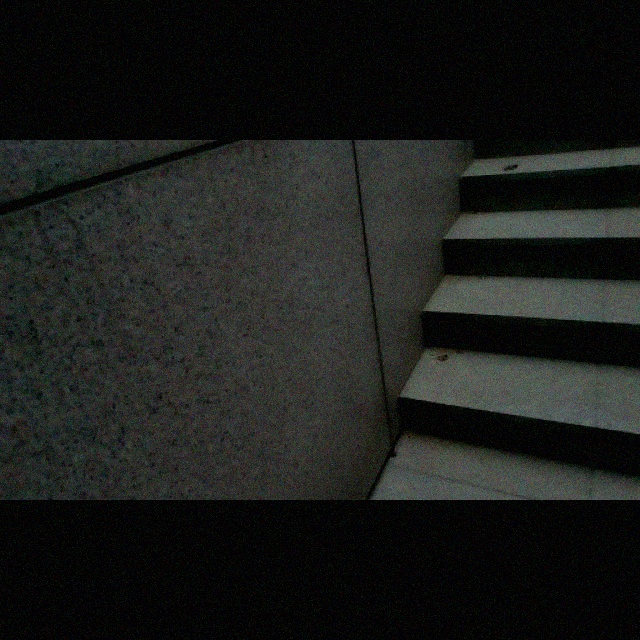stair: (450, 148, 638, 492)
